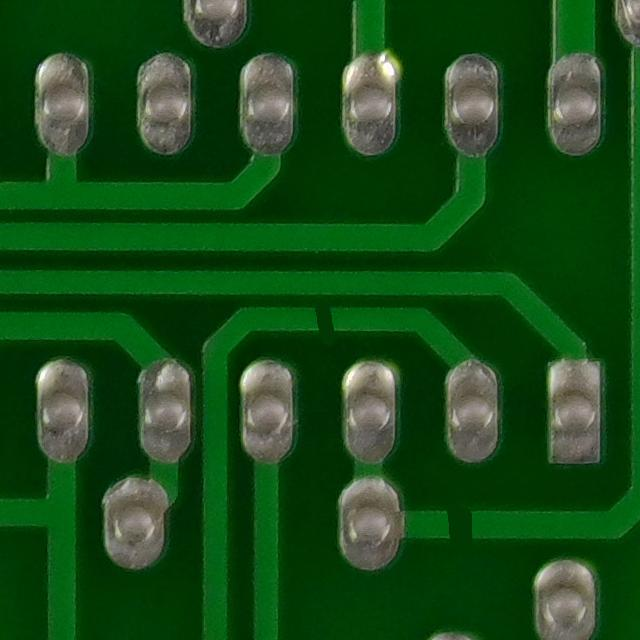open_circuit: (296, 296, 345, 345)
